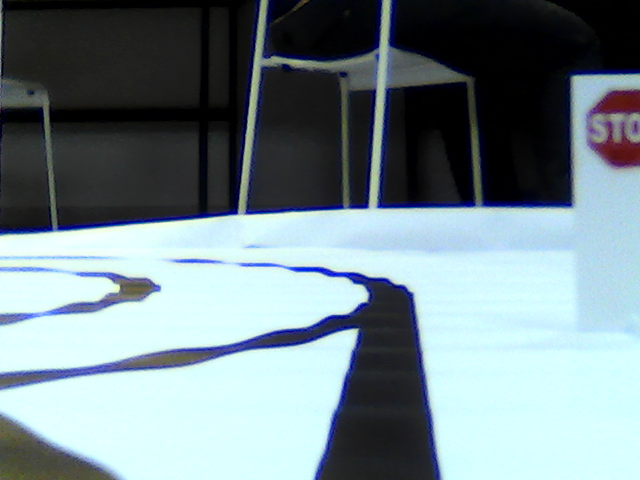Stop: (587, 90, 639, 172)
